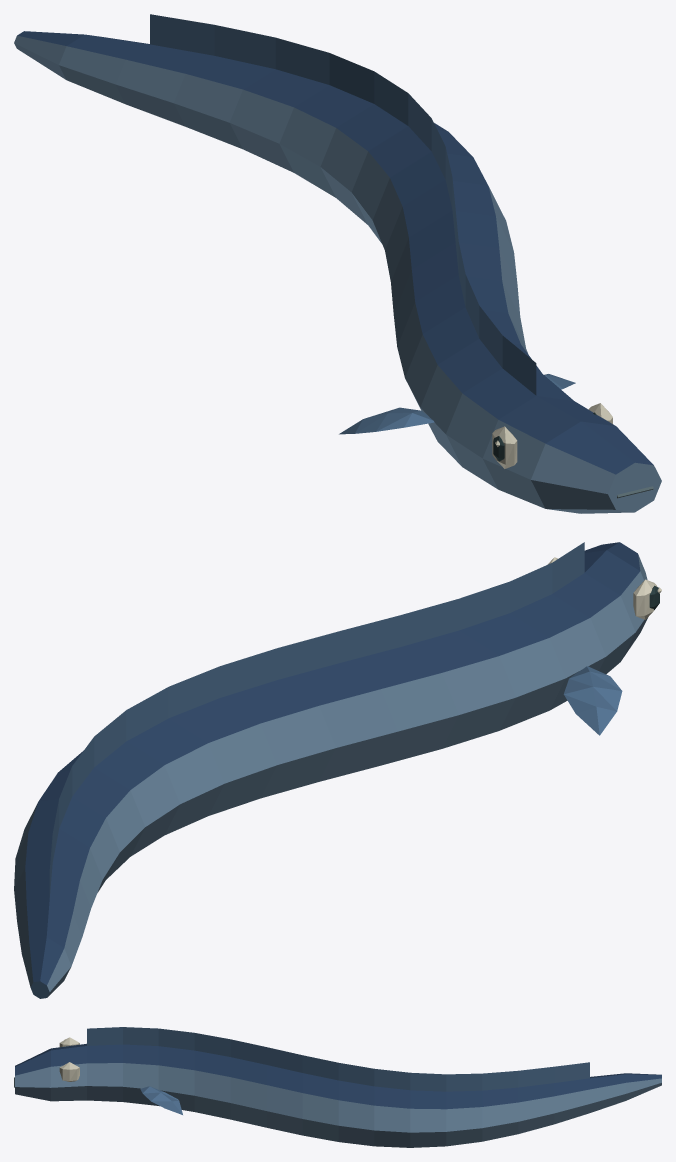
File: fish_deepeel.glb
3 renders of one model, top to bottom at view 1: azimuth 30°, elevation 25°; view 2: azimuth 150°, elevation 25°; view 3: azimuth 270°, elevation 25°, orthographic. The views are drawn at different scales.
Visible parts, largest first — view 1: fish; view 2: fish; view 3: fish.
Boxes of the visible parts, x1=… form: fish: x1=14, y1=14, x2=661, y2=513; fish: x1=14, y1=542, x2=661, y2=998; fish: x1=14, y1=1027, x2=661, y2=1147.
Size of the model in its own units: 0.3041 by 0.1254 by 0.9415.
